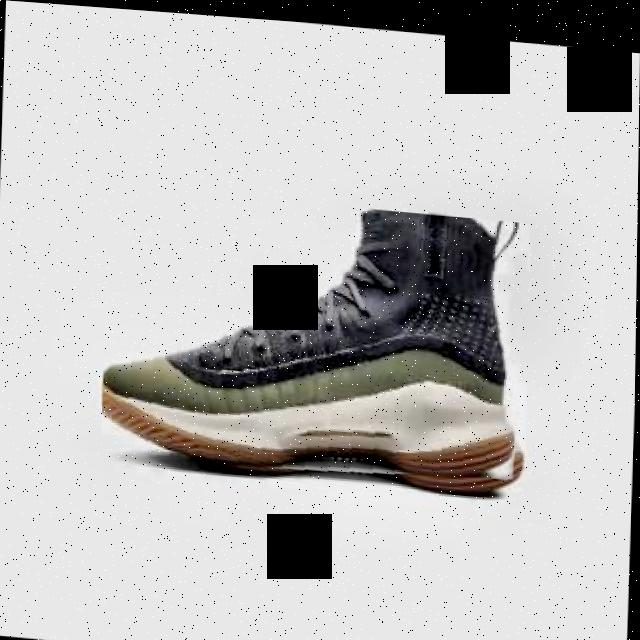shoe: (101, 183, 531, 491)
